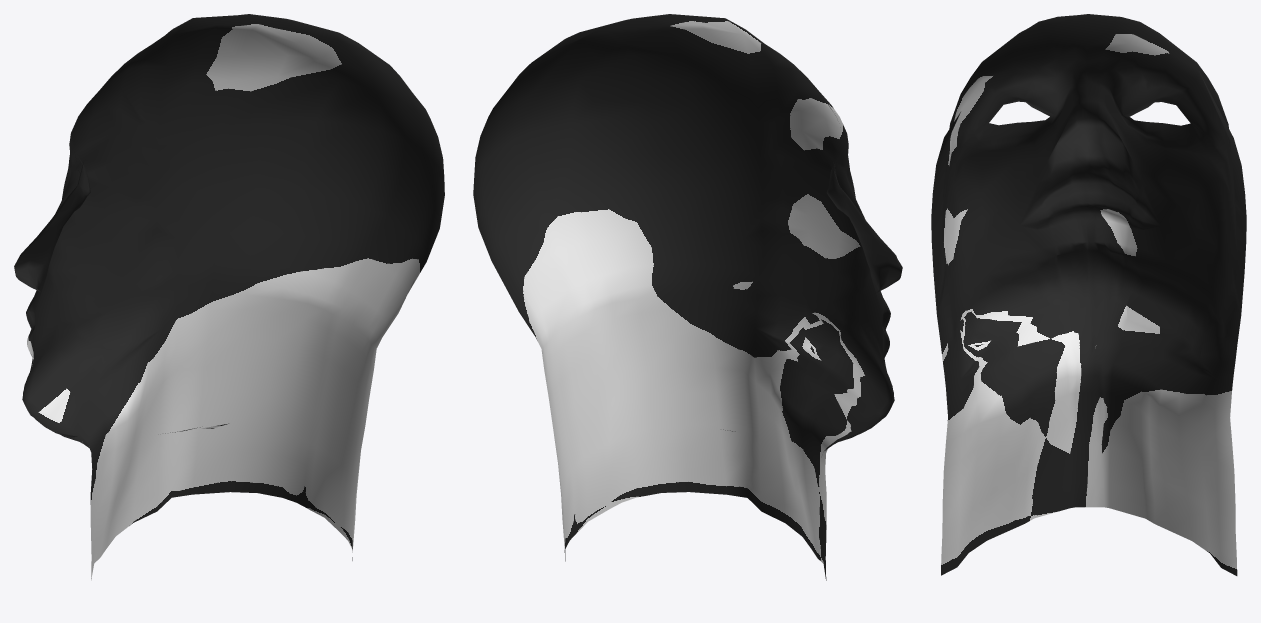
The model's file is cgalref_head_cgal_authalic_result.glb.
3 renders of one model, left to right at view 1: azimuth 30°, elevation 25°; view 2: azimuth 150°, elevation 25°; view 3: azimuth 270°, elevation 25°, orthographic. The views are drawn at different scales.
Visible parts, largest first — view 1: parameterized; view 2: parameterized; view 3: parameterized.
Part boxes in pixels (<box>): parameterized: <box>14,14,444,580</box>; parameterized: <box>473,14,902,580</box>; parameterized: <box>931,14,1246,575</box>.
Size of the model in its own units: 80.37 by 100 by 52.42.
1 material, 1 textured.
